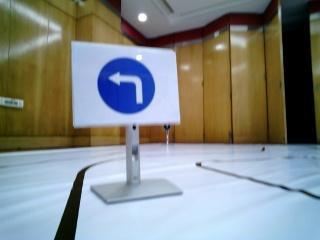left: (72, 50, 175, 124)
